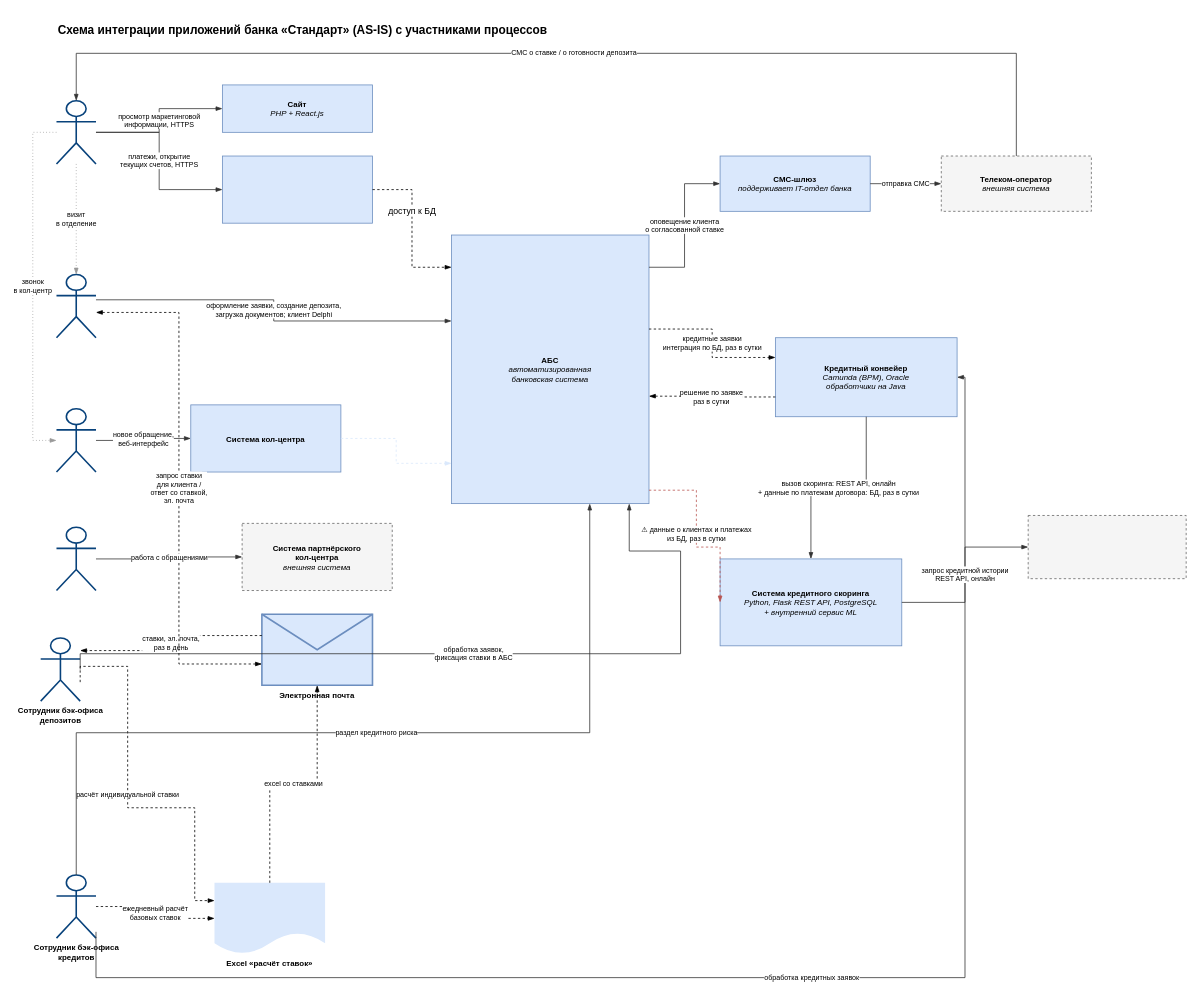
Image size: 1200x998. Some labels were removed from this diagram. The shapes that lost their labels are listed below. From the top down, each one's centre as x and y in pixels, then its label:
At pixel 75 132: "Клиент".
At pixel 297 189: "Интернет-банк монолит на платформе подрядчика".
At pixel 75 305: "Менеджер отделения фронт-офис".
At pixel 75 440: "Оператор кол-центра банка".
At pixel 75 558: "Оператор партнёрского кол-центра".
At pixel 1106 547: "Бюро кредитных историй внешняя система, REST API".
